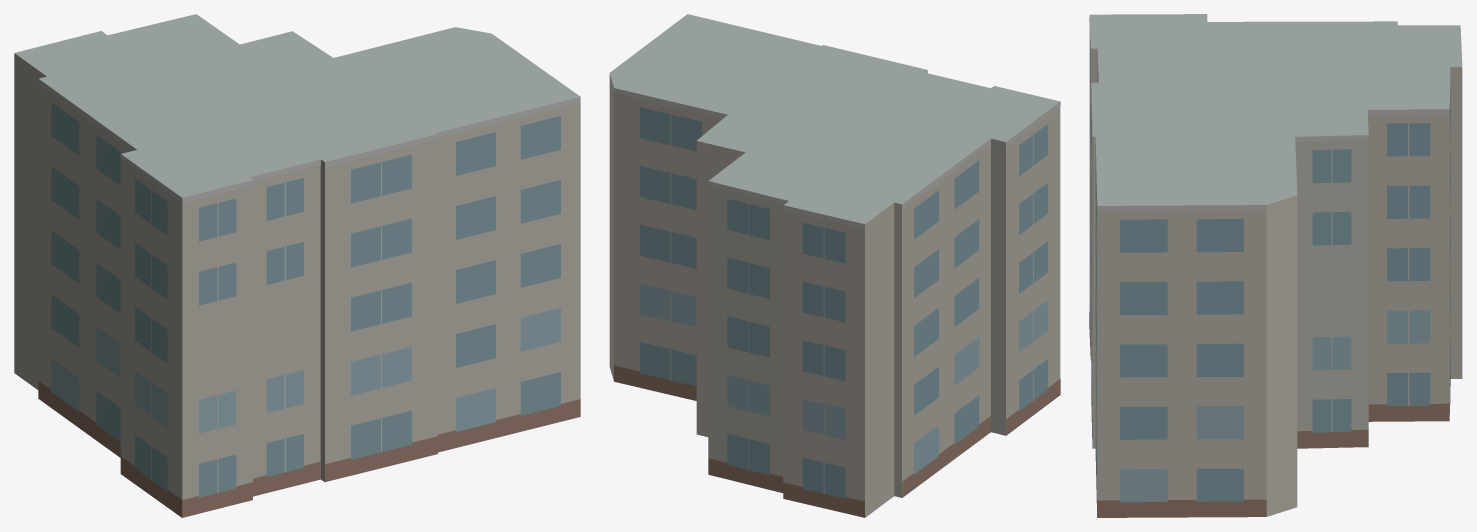
The model's file is survey-upis-32934999.glb.
3 renders of one model, left to right at view 1: azimuth 30°, elevation 25°; view 2: azimuth 150°, elevation 25°; view 3: azimuth 270°, elevation 25°, orthographic. The views are drawn at different scales.
Parts seen in each view (by area): view 1: survey-upis-32934999.tmp; view 2: survey-upis-32934999.tmp; view 3: survey-upis-32934999.tmp.
Boxes of the visible parts, box(x1,y1,x2,y2) form: survey-upis-32934999.tmp: box(14, 14, 580, 517); survey-upis-32934999.tmp: box(609, 14, 1060, 517); survey-upis-32934999.tmp: box(1089, 14, 1462, 517).
Bounding box in the file's own units: 19.14 × 14.5 × 15.72.
